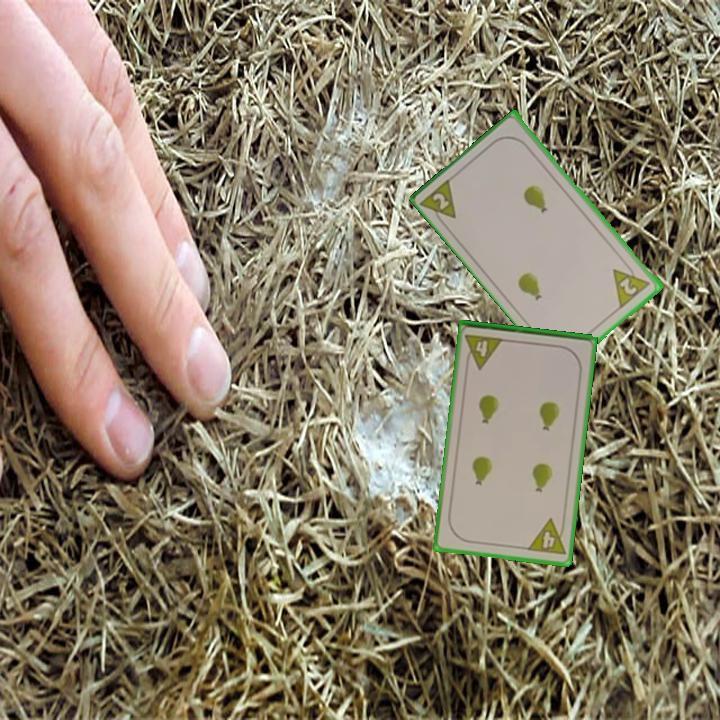2p: (418, 174, 460, 230), (609, 258, 654, 310)
4p: (524, 515, 568, 558), (462, 331, 506, 372)
